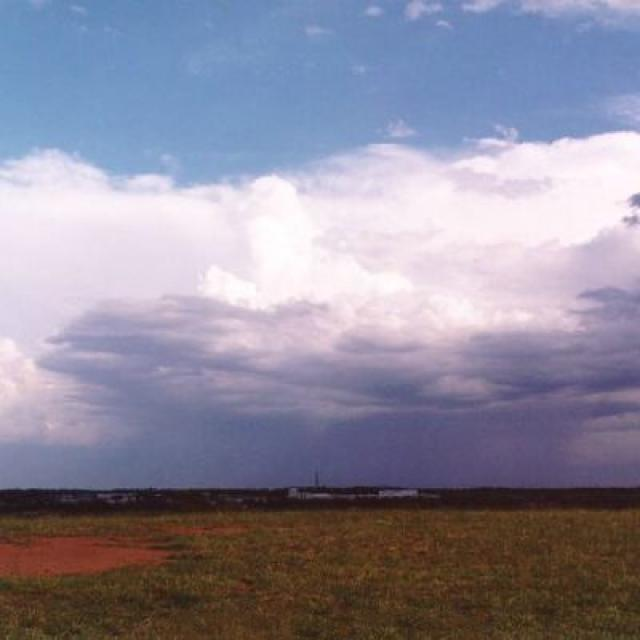Sc: (26, 233, 637, 447)
